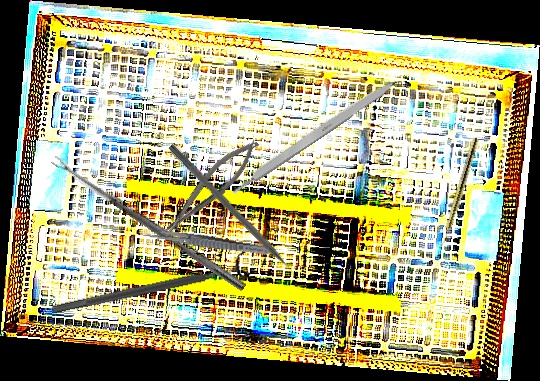Dressing Forceps: (140, 226, 275, 258)
Fixation Ring: (48, 249, 252, 325)
Handpiece: (437, 136, 480, 252)
Needle Holder: (151, 132, 267, 244)
Pusher: (166, 143, 306, 287)
Scalpel Handle: (228, 75, 399, 196)
Surgical Spoon: (50, 154, 248, 292)
